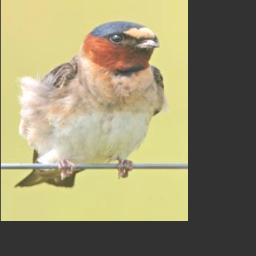Swallow: (13, 20, 170, 190)
